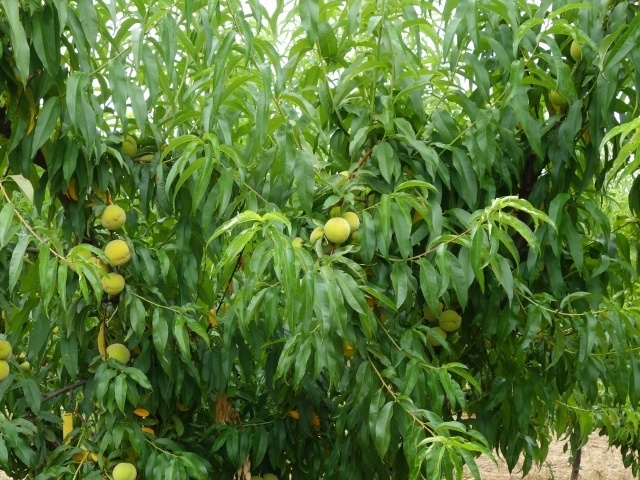peach: (322, 215, 354, 247), (98, 204, 129, 235), (101, 238, 131, 267), (305, 226, 335, 254), (103, 342, 132, 370), (99, 270, 126, 297), (438, 308, 465, 334), (115, 131, 139, 159), (426, 322, 451, 348), (86, 254, 111, 277), (547, 85, 570, 109), (567, 37, 586, 66), (420, 300, 442, 325), (110, 462, 140, 480), (339, 209, 360, 231), (1, 337, 14, 364), (1, 358, 13, 382)
